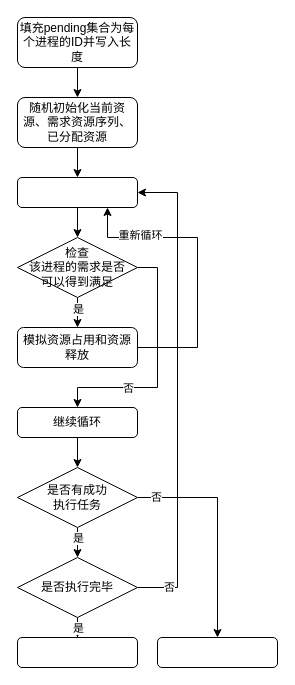
Image size: 295x685. Some labels were removed from this diagram. Here are the shapes that lost their labels. From the top down, the centre of each, then its label:
At (x=77, y=192): "在pending序列循环".
At (x=77, y=652): "宣布该序列安全".
At (x=217, y=652): "宣布序列不安全".
